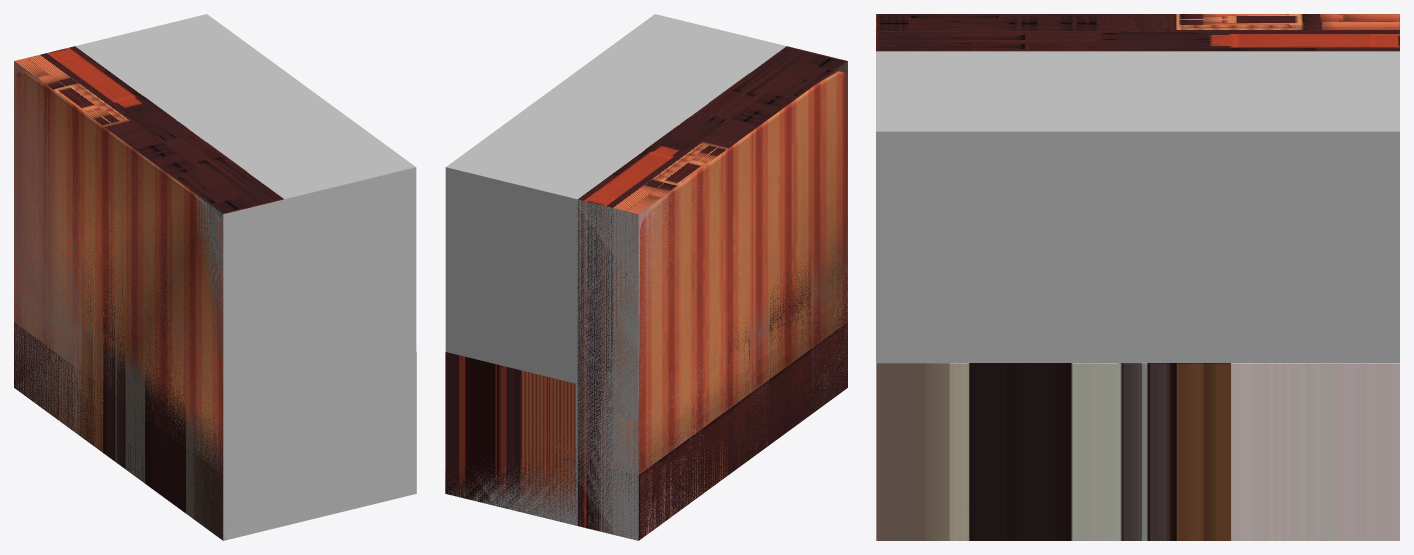
Rendered from booth.DAE.
3 renders of one model, left to right at view 1: azimuth 30°, elevation 25°; view 2: azimuth 150°, elevation 25°; view 3: azimuth 270°, elevation 25°, orthographic. The views are drawn at different scales.
Visible parts, largest first — view 1: bounds, booth100, colbox-1; view 2: bounds, booth100, colbox-1, colbox-2; view 3: bounds, colbox-2, colbox-1.
Part boxes in pixels (<box>): bounds: <box>14,14,416,540</box>; booth100: <box>14,72,223,538</box>; colbox-1: <box>14,46,284,540</box>; bounds: <box>445,14,847,540</box>; booth100: <box>445,71,847,540</box>; colbox-1: <box>577,46,847,539</box>; colbox-2: <box>445,351,575,521</box>; bounds: <box>876,51,1399,362</box>; colbox-2: <box>876,363,1399,540</box>; colbox-1: <box>876,14,1399,51</box>.
Size of the model in its own units: 86.09 by 161 by 139.
